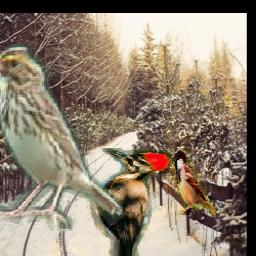Sparrow: (0, 45, 124, 232), (170, 149, 217, 216)
Woodpecker: (88, 149, 171, 256)
